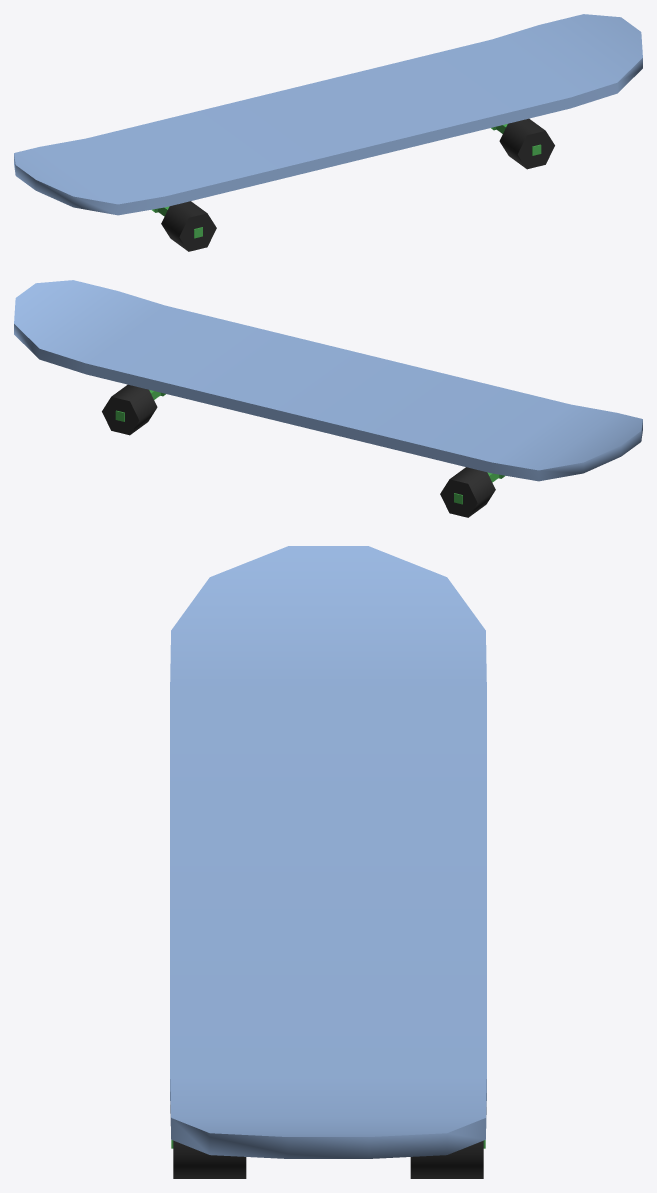
3 views of the same model, one above another, from view 1: azimuth 30°, elevation 25°; view 2: azimuth 150°, elevation 25°; view 3: azimuth 270°, elevation 25° (orthographic). The views are drawn at different scales.
Visible parts, largest first — view 1: toy_019; view 2: toy_019; view 3: toy_019.
Part boxes in pixels (box(x1,y1,x2,y2)): toy_019: box(14, 14, 642, 251); toy_019: box(14, 280, 642, 517); toy_019: box(170, 546, 486, 1178).
Bounding box in the file's own units: 0.8531 × 0.1097 × 0.1932.
